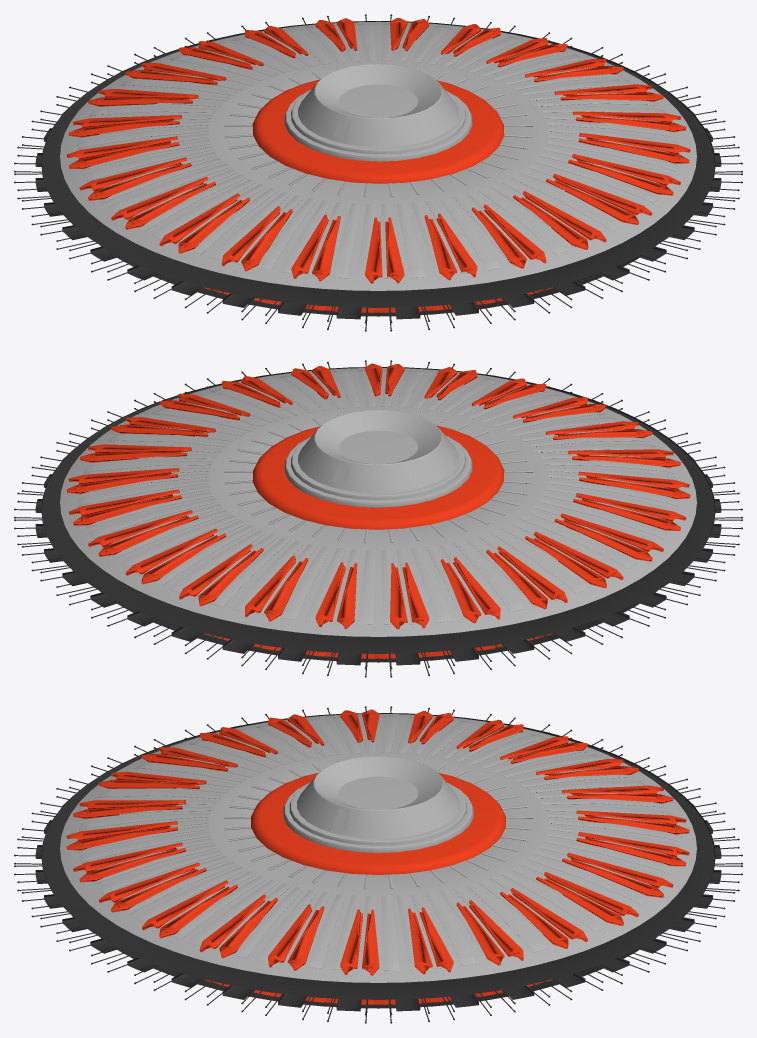
Rendered from 14165_UFO.fbx.
3 renders of one model, top to bottom at view 1: azimuth 30°, elevation 25°; view 2: azimuth 150°, elevation 25°; view 3: azimuth 270°, elevation 25°, orthographic.
Parts seen in each view (by area): view 1: vree_sauce, vree_sauc2, ClassicUf1, ClassicUfo; view 2: vree_sauce, vree_sauc2, ClassicUf1, ClassicUfo; view 3: vree_sauce, vree_sauc2, ClassicUf1, ClassicUfo.
Boxes of the visible parts, x1,y1,x2,y2 form: vree_sauce: (14, 14, 742, 331); vree_sauc2: (66, 18, 690, 283); ClassicUf1: (284, 64, 472, 161); ClassicUfo: (252, 79, 504, 183); vree_sauce: (14, 360, 742, 677); vree_sauc2: (66, 363, 690, 629); ClassicUf1: (284, 410, 472, 507); ClassicUfo: (252, 425, 504, 529); vree_sauce: (14, 706, 742, 1023); vree_sauc2: (66, 709, 689, 975); ClassicUf1: (283, 756, 473, 852); ClassicUfo: (251, 772, 505, 874).
Size of the model in its own units: 31160 by 6825 by 31160.
